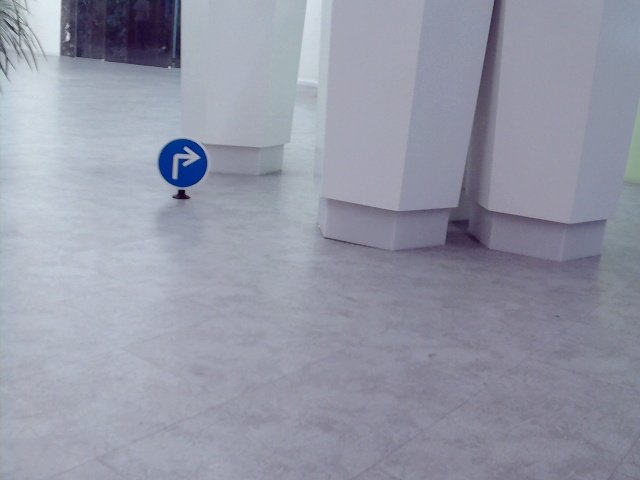turn_right: (164, 145, 198, 178)
